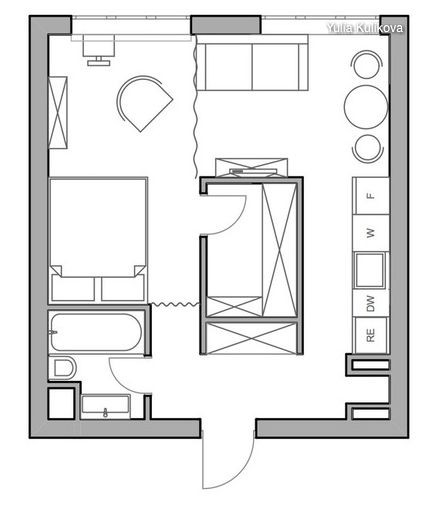door: (201, 421, 257, 493), (202, 186, 253, 242), (100, 350, 162, 393)
room: (27, 172, 416, 444), (22, 8, 410, 179)
wall: (386, 14, 414, 443), (26, 8, 51, 442), (25, 413, 203, 446), (253, 412, 414, 445), (292, 174, 309, 353), (188, 9, 264, 43), (196, 311, 303, 330), (195, 236, 211, 354), (27, 7, 73, 43), (197, 175, 307, 190), (32, 304, 152, 314), (381, 13, 414, 40), (344, 365, 389, 384), (141, 306, 156, 359), (342, 400, 393, 412), (340, 354, 393, 363), (343, 350, 357, 378), (139, 393, 153, 420)
window: (262, 10, 380, 28), (70, 9, 192, 25)
